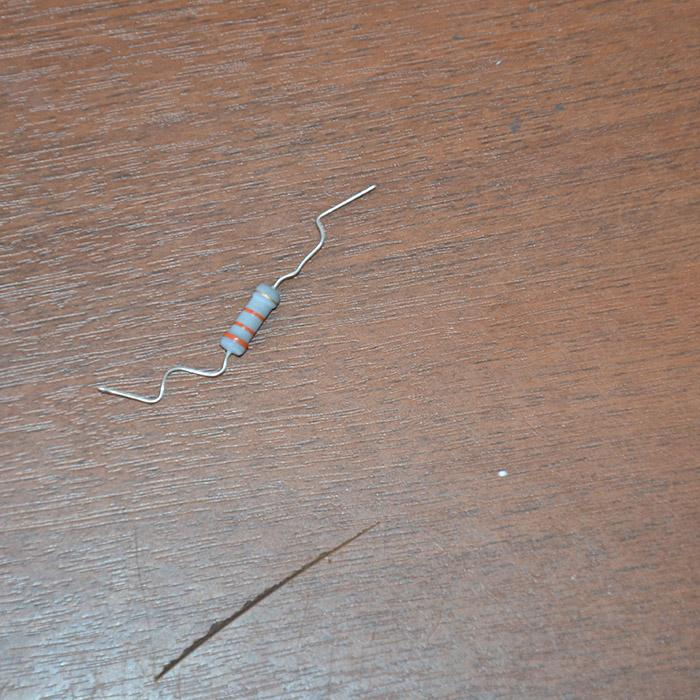resistor: (223, 283, 280, 356)
